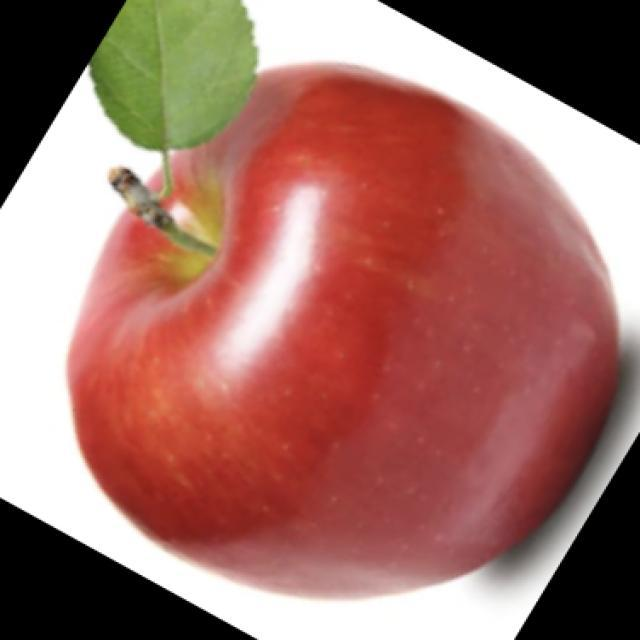Fresh Apple: (53, 54, 625, 624)
